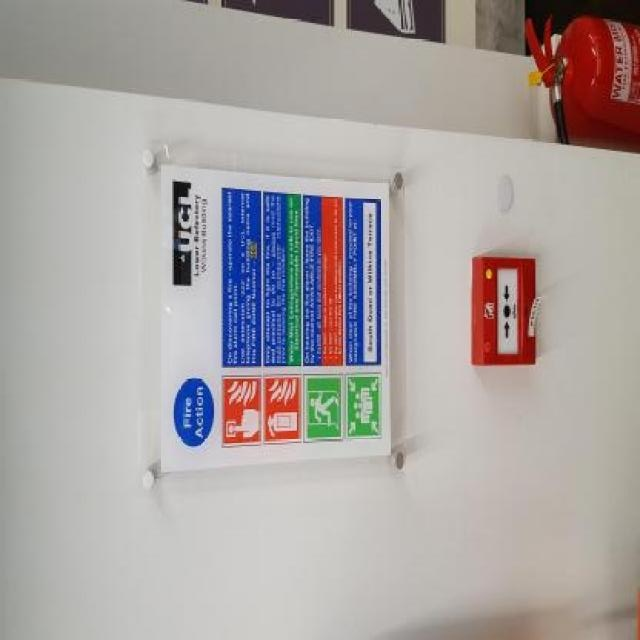fire extinguisher: (526, 16, 640, 153)
